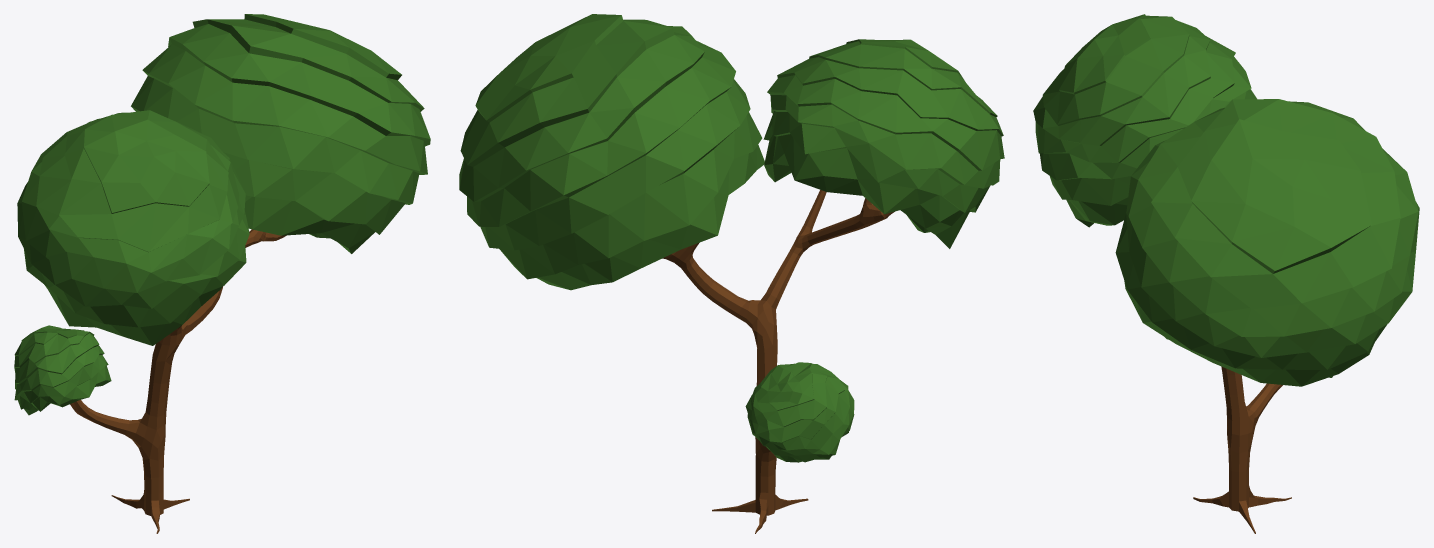
The model's file is LP large Bush tree TREE ST1.fbx.
3 views of the same model, side by side, from view 1: azimuth 30°, elevation 25°; view 2: azimuth 150°, elevation 25°; view 3: azimuth 270°, elevation 25° (orthographic). The views are drawn at different scales.
Parts seen in each view (by area): view 1: Leaves 1.001; view 2: Leaves 1.001; view 3: Leaves 1.001.
Boxes of the visible parts, x1,y1,x2,y2 form: Leaves 1.001: (14,14,430,533); Leaves 1.001: (459,14,1004,533); Leaves 1.001: (1033,14,1419,533).
Bounding box in the file's own units: 1190 × 1183 × 895.
